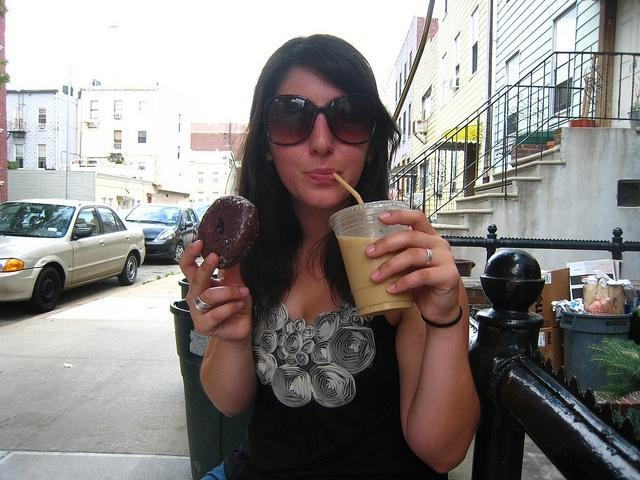car: (0, 196, 148, 312), (126, 202, 202, 265)
